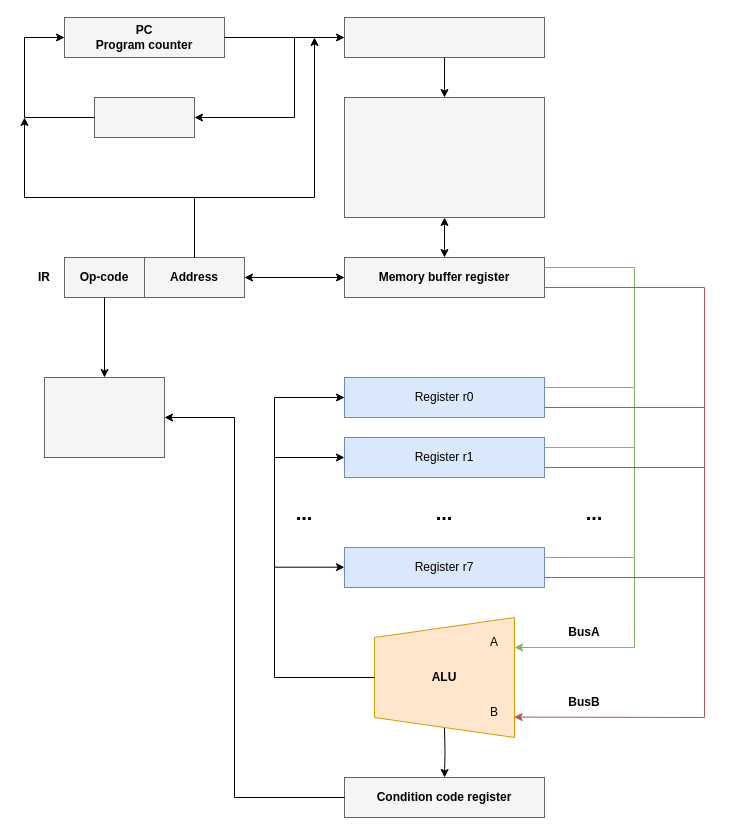
This 730x835 diagram has some shape labels left out. The centre of each missing label's shape, as x and y in pixels:
Address Memory Data: [444,157]
Control Unit: [104,417]
Incrementer: [144,117]
Memory address register: [444,37]
